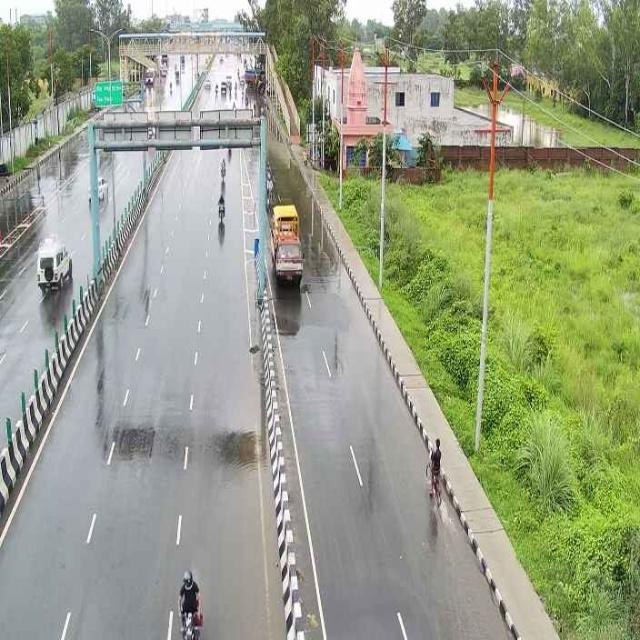car: (25, 238, 79, 294)
